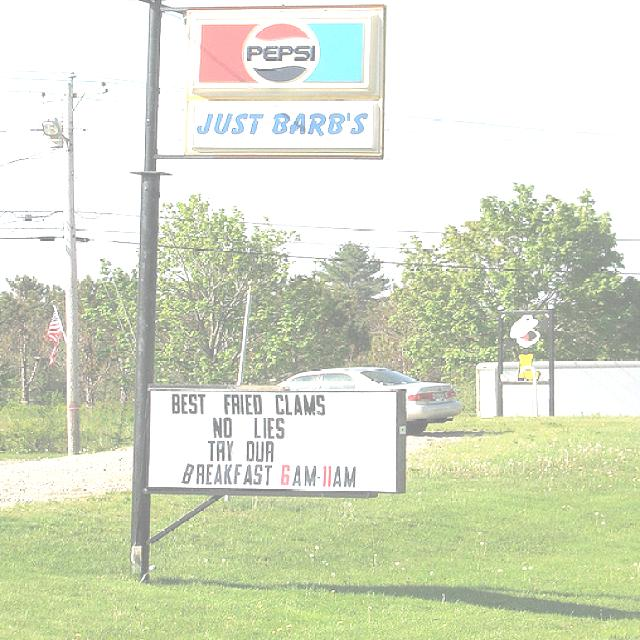Vehicle: (278, 367, 466, 437), (475, 358, 640, 419)
